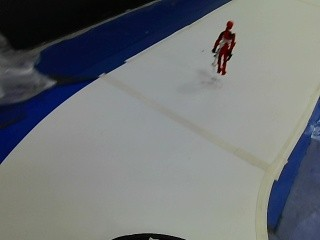pedestrian: (208, 20, 237, 77)
